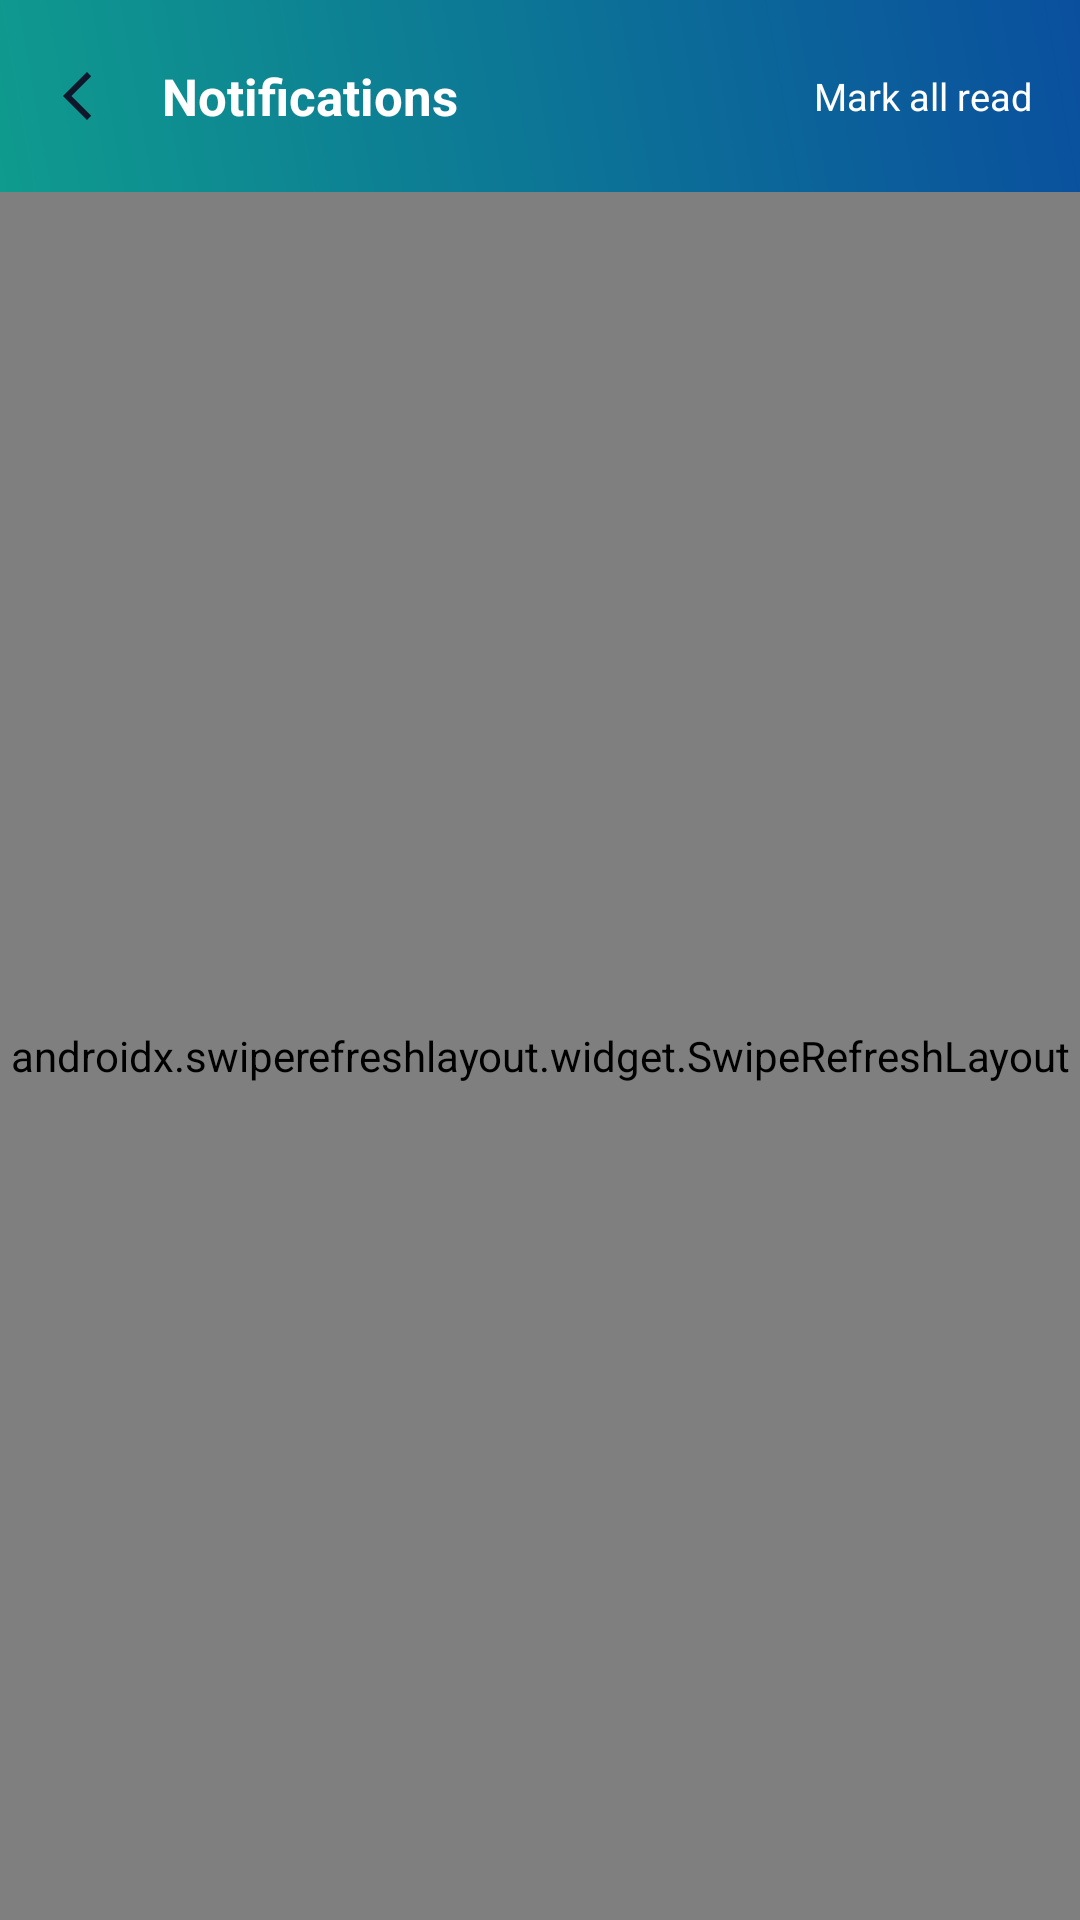

Named icons in this screenshot (1080w x 1920h) and their centers, [x,y]:
back: [77,96]
